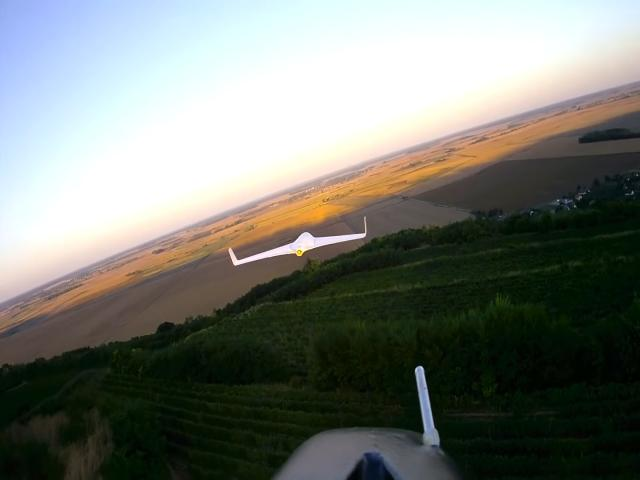plane: (227, 216, 367, 267)
